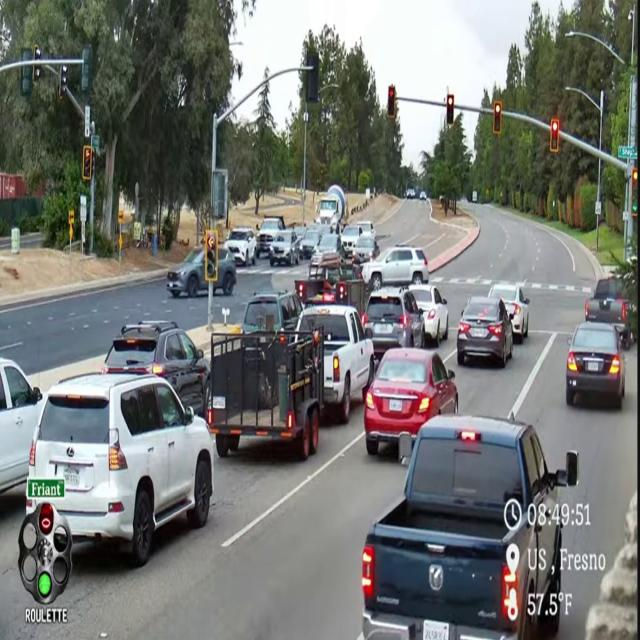car: (29, 374, 213, 566), (102, 321, 210, 415), (364, 349, 458, 455), (0, 358, 42, 493), (566, 322, 625, 408), (362, 288, 424, 359), (457, 296, 513, 367), (585, 276, 634, 349), (363, 246, 428, 289), (242, 291, 302, 332), (409, 285, 448, 346), (489, 284, 529, 343), (167, 248, 208, 297), (224, 226, 256, 266), (256, 216, 285, 258), (269, 230, 299, 266), (312, 233, 343, 259), (353, 234, 379, 263), (340, 224, 362, 258), (300, 226, 321, 259), (293, 226, 306, 252), (358, 221, 375, 238), (406, 189, 415, 199), (419, 191, 427, 201)
traffic signal: (205, 230, 218, 282), (306, 51, 319, 103), (81, 44, 93, 94), (39, 504, 54, 535), (20, 66, 32, 96), (82, 145, 92, 181), (493, 101, 502, 135), (550, 119, 559, 152), (387, 86, 396, 119), (59, 65, 67, 99), (632, 168, 637, 216), (446, 95, 454, 125), (33, 65, 41, 82), (632, 168, 637, 187)
truck: (362, 414, 588, 639), (206, 330, 324, 460), (297, 304, 374, 423), (585, 276, 633, 349), (295, 279, 367, 317), (308, 252, 361, 284), (317, 184, 347, 232), (256, 216, 285, 258)
